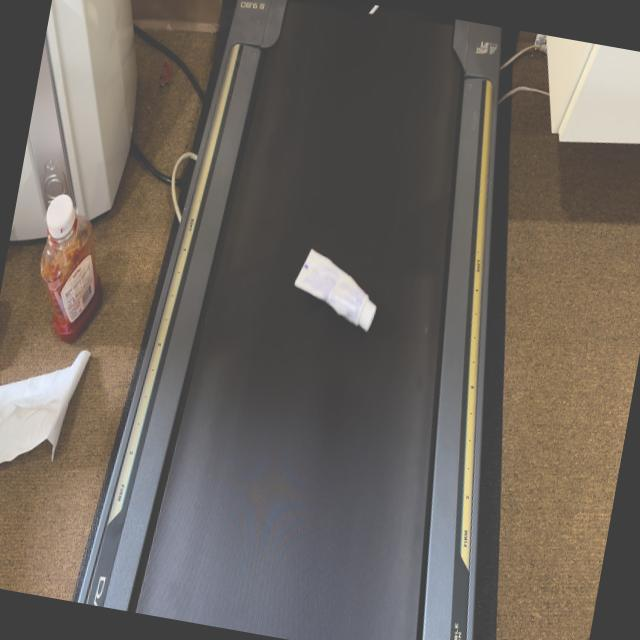Trash: (287, 248, 385, 338)
